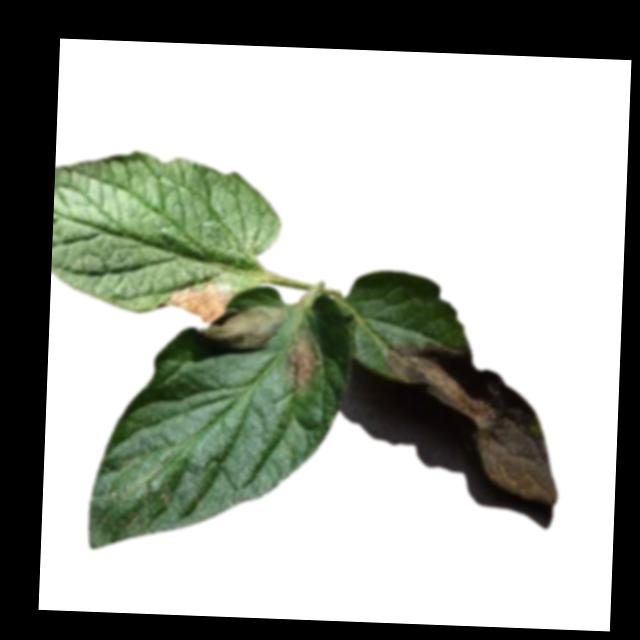Late_blight: (378, 341, 564, 504), (195, 302, 289, 357), (165, 278, 241, 326), (281, 325, 324, 389)
